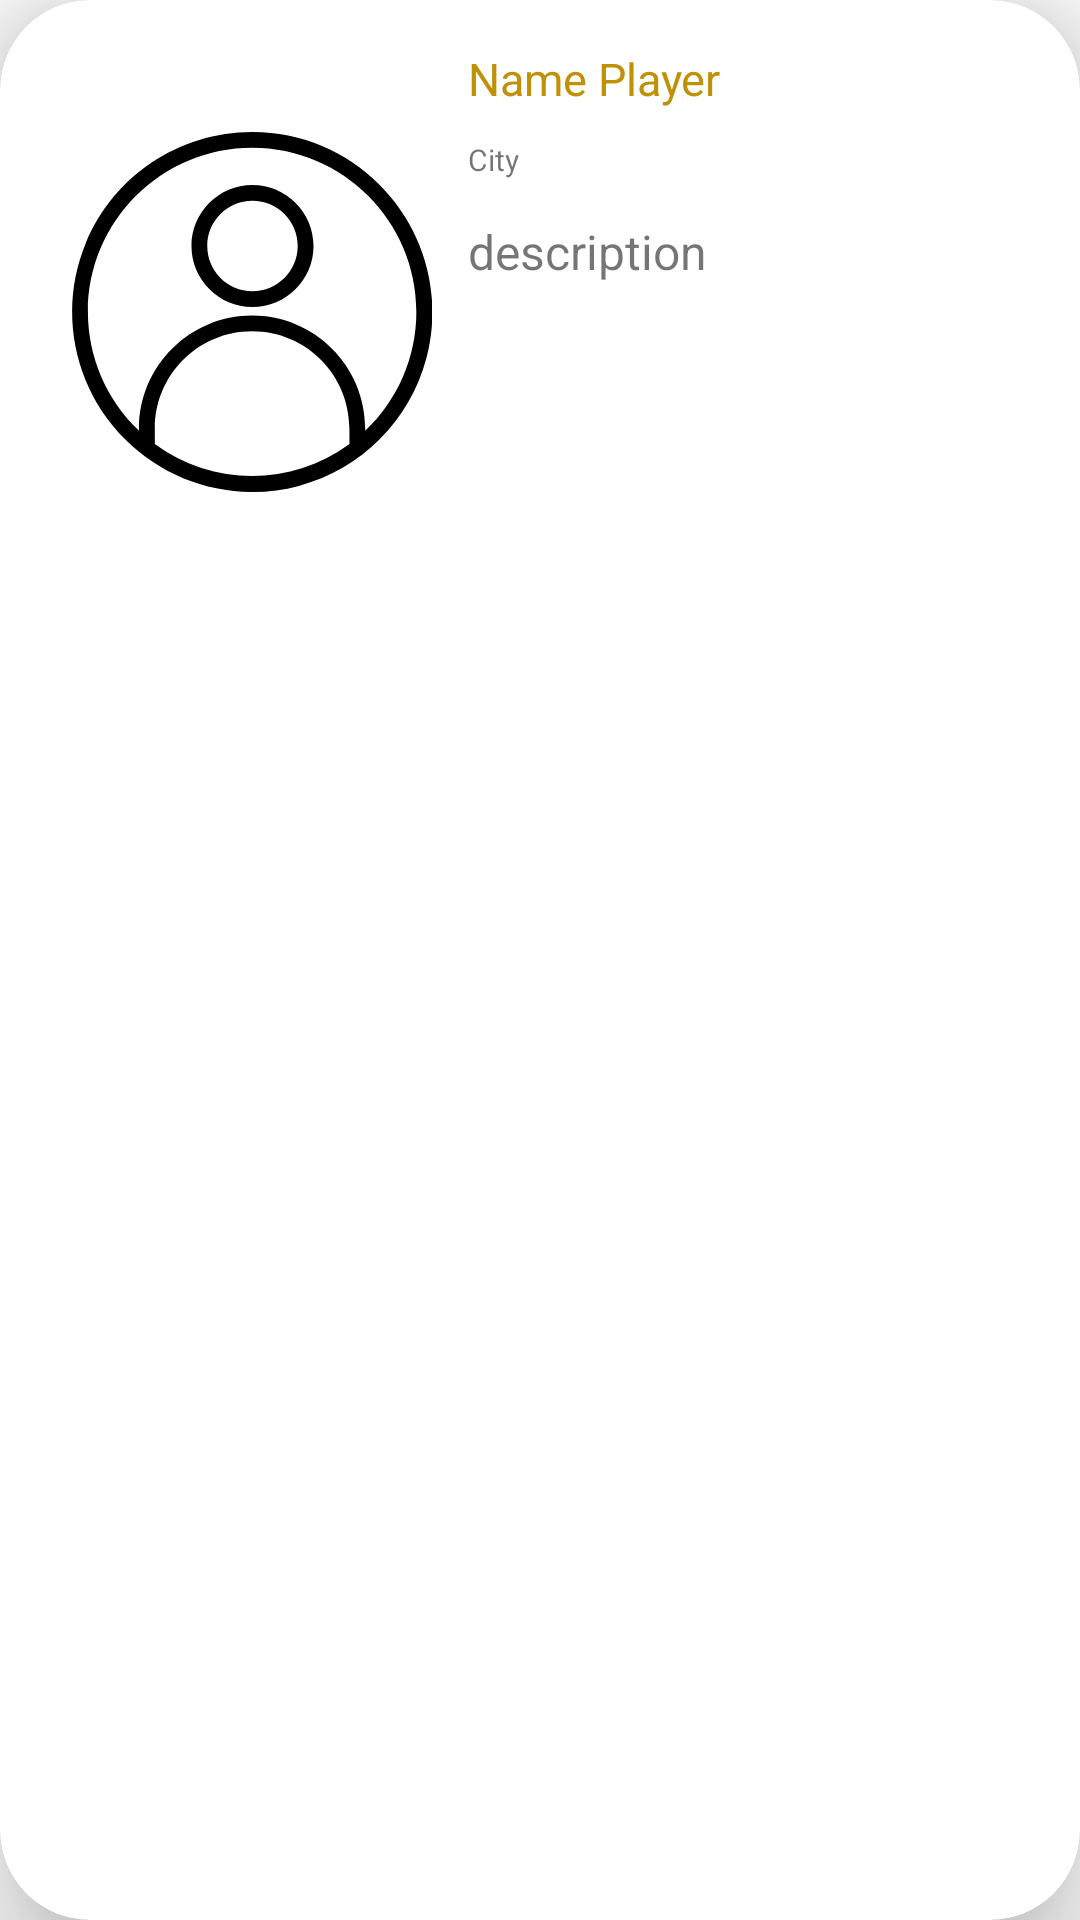

Screen size 1080x1920. Icon name, then its box in pixels as (x1, y1, x2, y2):
user: (72, 132, 432, 492)
